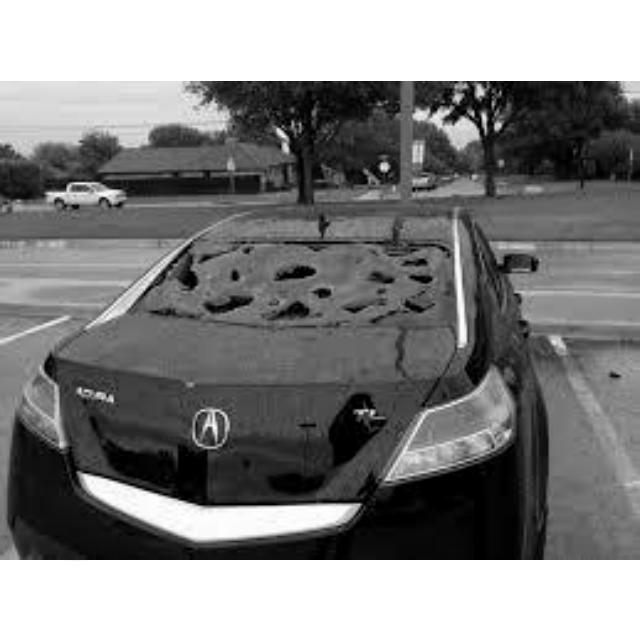Rear-windscreen-Damage: (161, 229, 462, 330)
